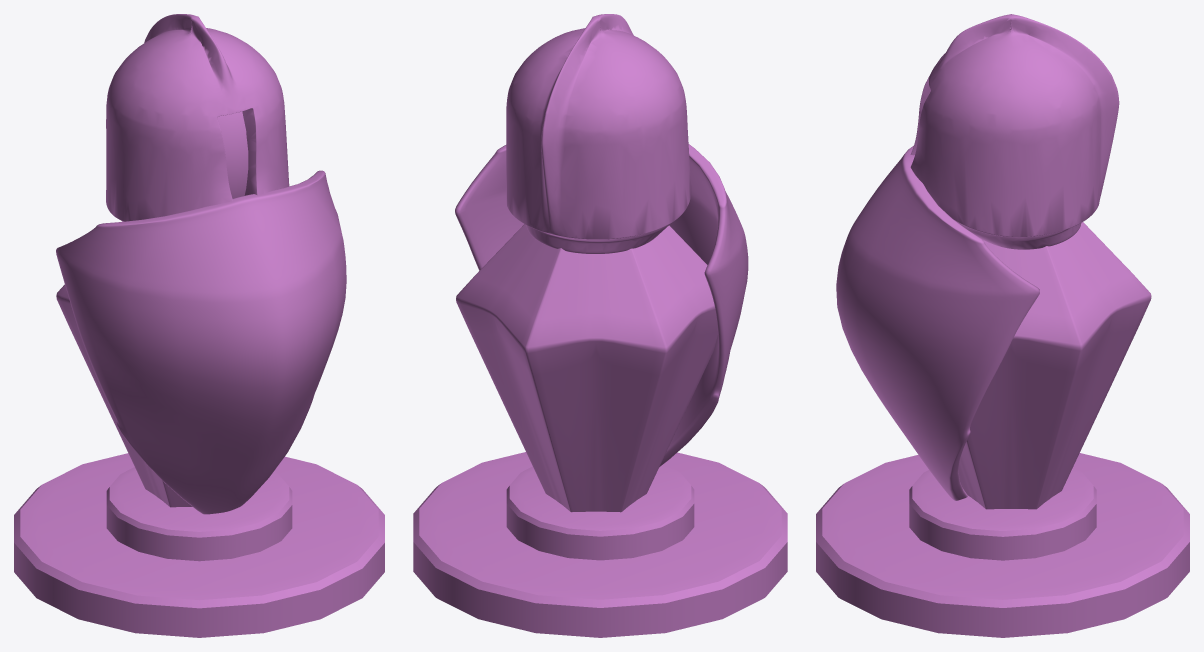
The model's file is pawn.fbx.
3 renders of one model, left to right at view 1: azimuth 30°, elevation 25°; view 2: azimuth 150°, elevation 25°; view 3: azimuth 270°, elevation 25°, orthographic.
Parts seen in each view (by area): view 1: Cylinder020; view 2: Cylinder020; view 3: Cylinder020.
Part boxes in pixels (x1,y1,x2,y2): Cylinder020: (14, 14, 384, 637); Cylinder020: (413, 14, 787, 637); Cylinder020: (816, 14, 1189, 637).
Bounding box in the file's own units: 37.65 × 59.36 × 37.08.
